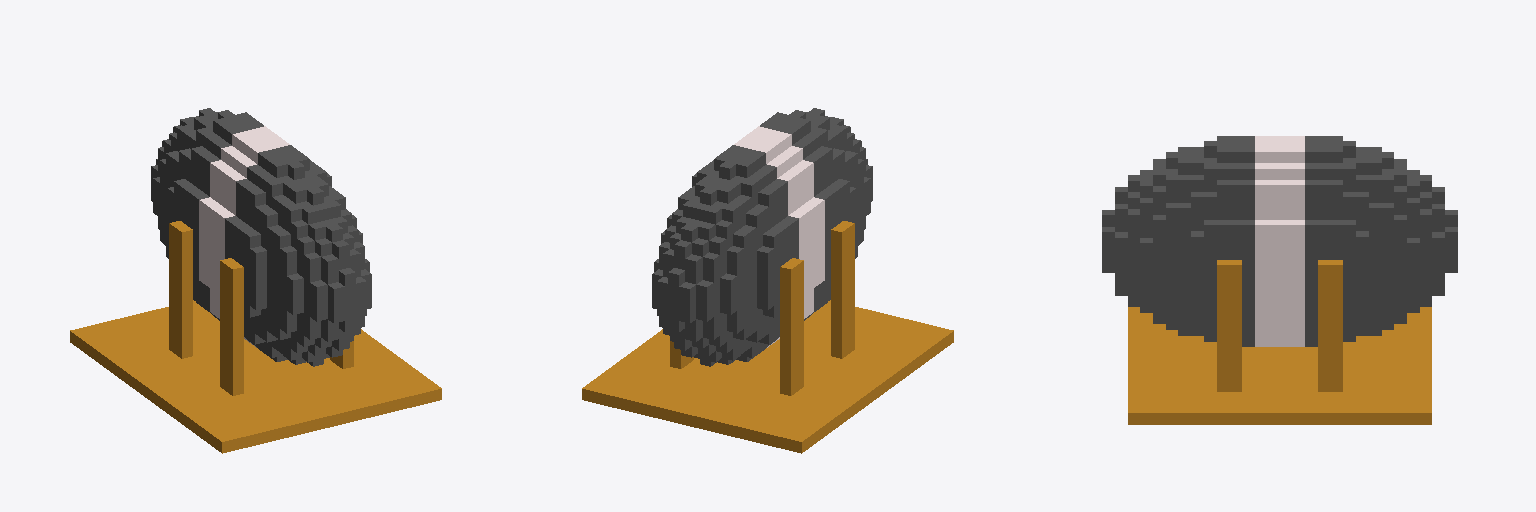
3 renders of one model, left to right at view 1: azimuth 30°, elevation 25°; view 2: azimuth 150°, elevation 25°; view 3: azimuth 270°, elevation 25°, orthographic.
Parts seen in each view (by area): view 1: object 1; view 2: object 1; view 3: object 1.
Part boxes in pixels (bbox=[...]): object 1: bbox=[70, 108, 441, 453]; object 1: bbox=[582, 108, 953, 453]; object 1: bbox=[1102, 136, 1457, 424].
Size of the model in its own units: 2 by 2 by 2.8.
1 materials, 1 textured.